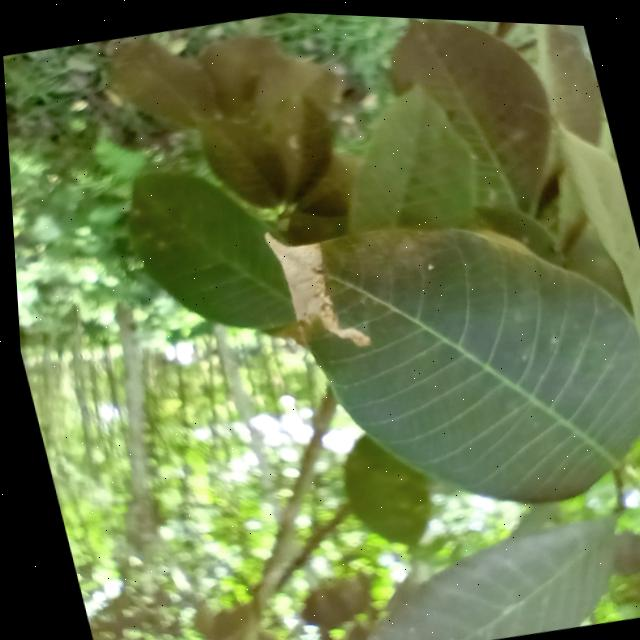Leaf-Blight: (258, 215, 369, 359)
